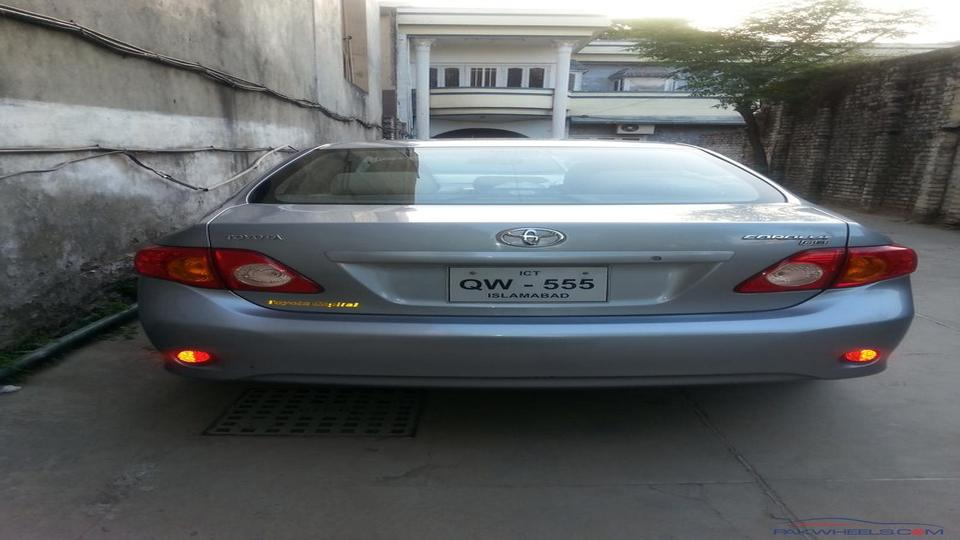NumberPlate: (442, 254, 624, 309)
